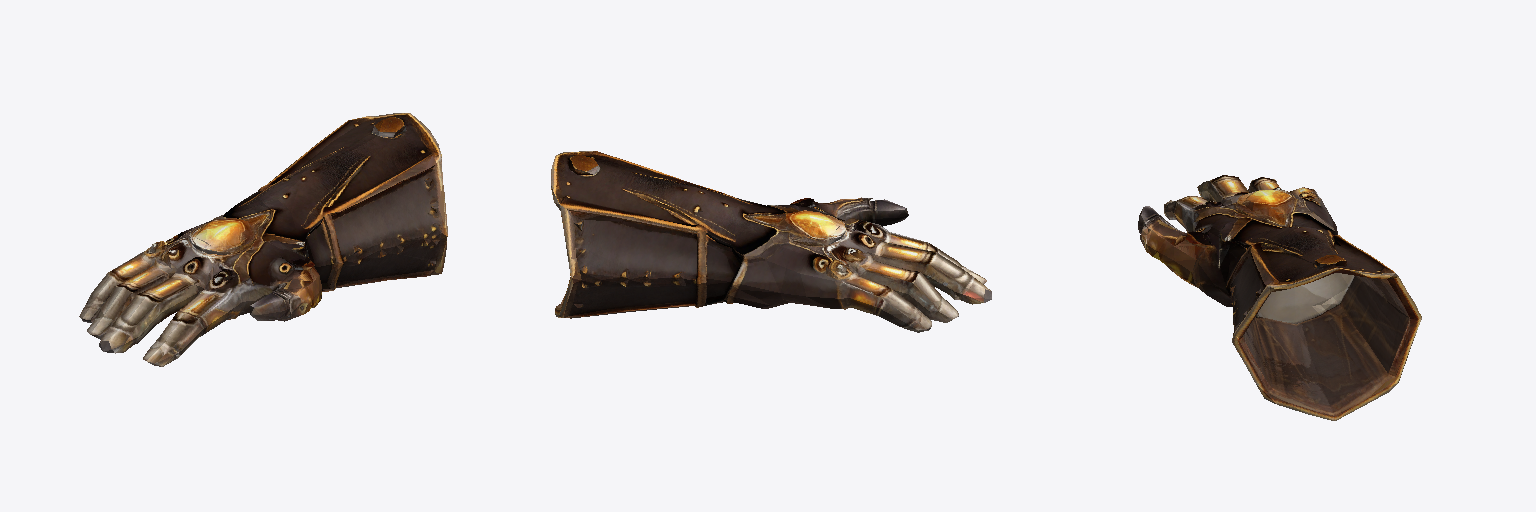
The picture shows the model from 3 angles: view 1: azimuth 30°, elevation 25°; view 2: azimuth 150°, elevation 25°; view 3: azimuth 270°, elevation 25°; orthographic projection.
Visible parts, largest first — view 1: LightningLauncher; view 2: LightningLauncher; view 3: LightningLauncher.
Boxes of the visible parts, <box> form: LightningLauncher: <box>79,113,447,366</box>; LightningLauncher: <box>551,151,991,332</box>; LightningLauncher: <box>1138,175,1421,420</box>.
Size of the model in its own units: 1.94 by 0.7623 by 1.27.
1 materials, 1 textured.